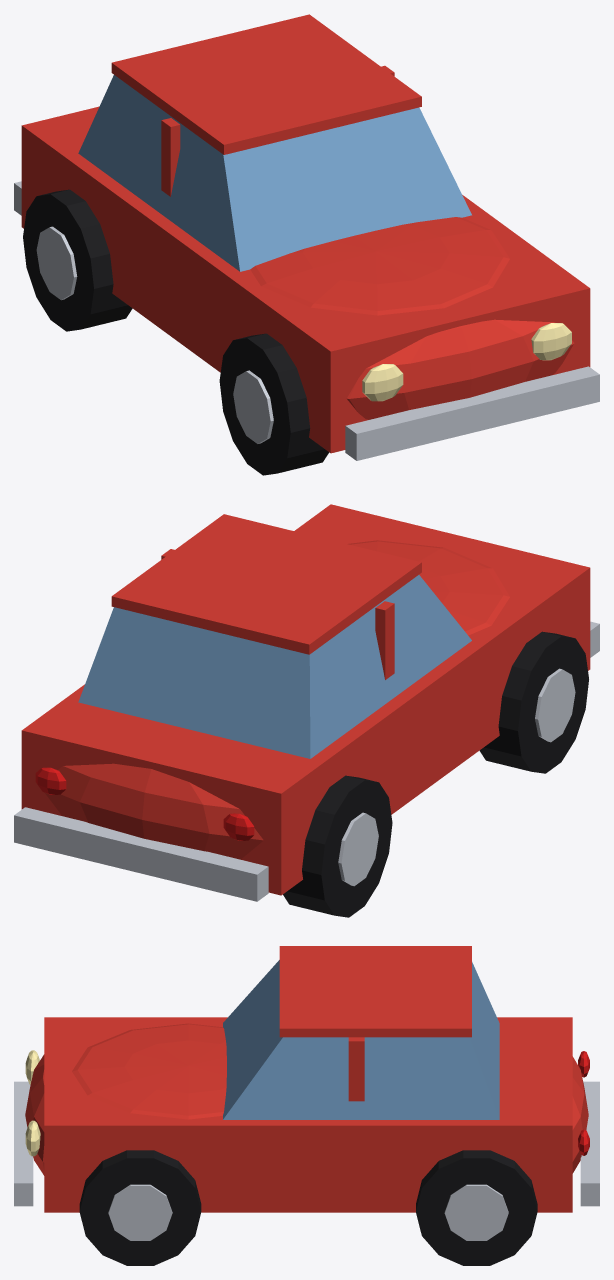
Rendered from car.glb.
The picture shows the model from 3 angles, top to bottom: view 1: azimuth 30°, elevation 25°; view 2: azimuth 150°, elevation 25°; view 3: azimuth 270°, elevation 25°; orthographic projection. The views are drawn at different scales.
Parts seen in each view (by area): view 1: car_body, car_wheel_fr, car_wheel_rr; view 2: car_body, car_wheel_rr, car_wheel_fr; view 3: car_body, car_wheel_fl, car_wheel_rl.
Boxes of the visible parts, x1=… form: car_body: x1=14, y1=14, x2=599, y2=460; car_wheel_fr: x1=219, y1=333, x2=328, y2=475; car_wheel_rr: x1=23, y1=189, x2=132, y2=331; car_body: x1=14, y1=504, x2=599, y2=901; car_wheel_rr: x1=283, y1=775, x2=392, y2=917; car_wheel_fr: x1=479, y1=631, x2=588, y2=773; car_body: x1=14, y1=946, x2=599, y2=1212; car_wheel_fl: x1=79, y1=1150, x2=201, y2=1265; car_wheel_rl: x1=416, y1=1150, x2=537, y2=1265.
Size of the model in its own units: 1.88 by 1.49 by 3.66.
